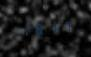eight: (31, 20, 43, 37)
one: (18, 21, 30, 38), (44, 20, 56, 36)
seven: (57, 19, 69, 35)
